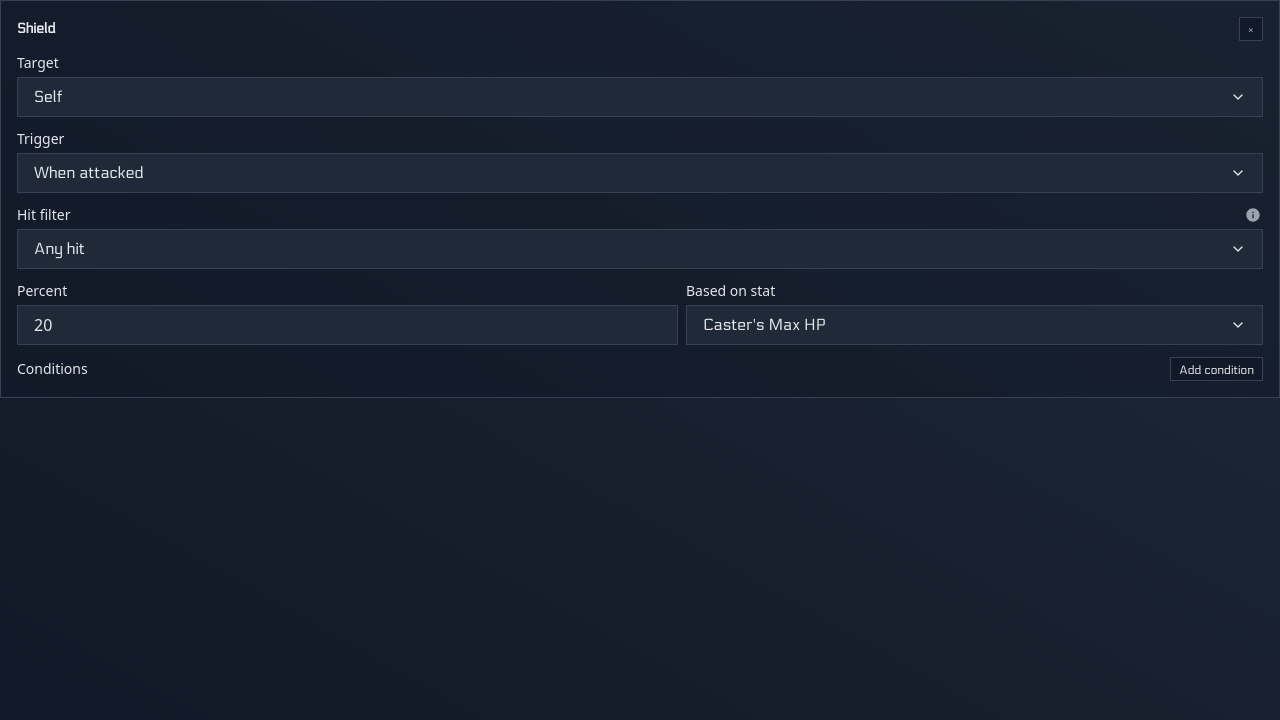
Test: AbilityCard › Hit filter select (on-attacked trigger) › shows the three hit filter options
Click the label labelled "Hit filter": (44, 214) [17,205,1263,225]
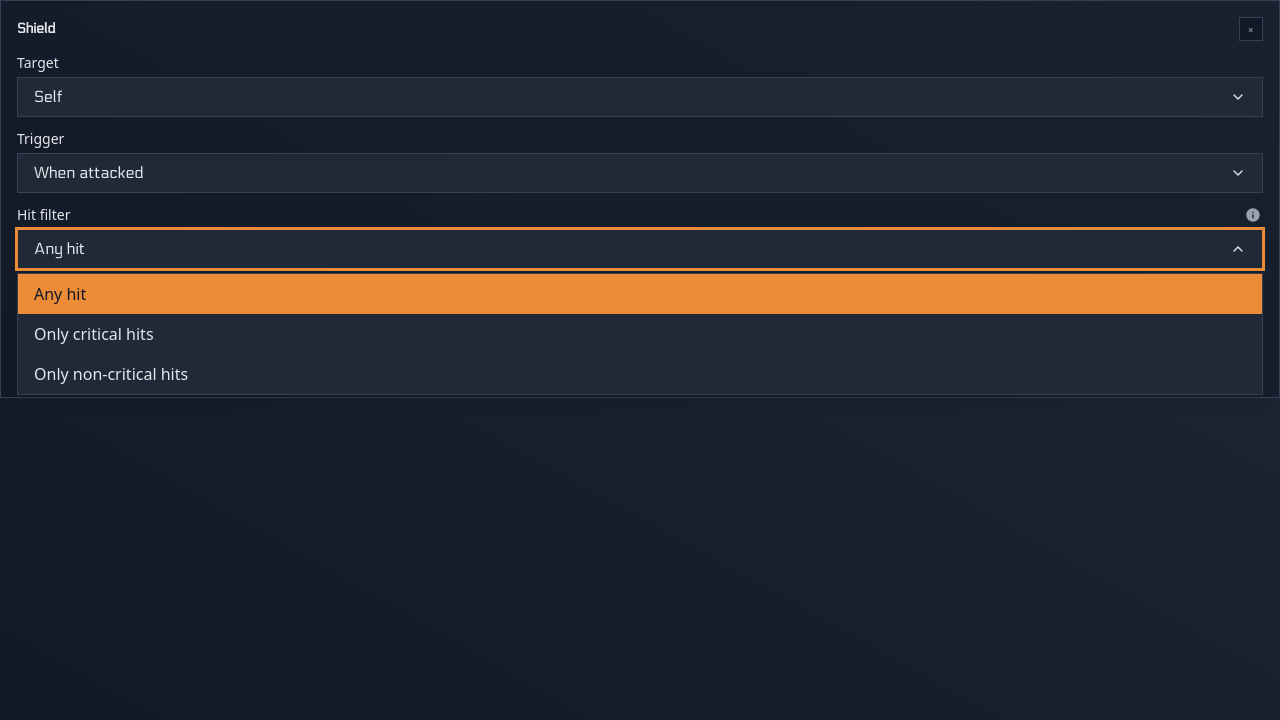
Expected: the text "Any hit" is shown, [34,237,85,261]
Expected: the option "Only critical hits" is shown, [34,323,154,345]
Expected: the option "Only non-critical hits" is shown, [34,363,188,385]
